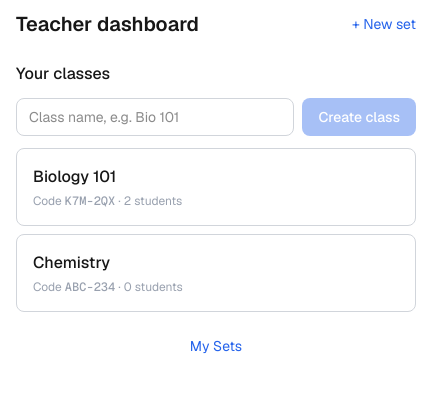
it: teacher dashboard › shows the server's error when creating fails
Check: the link "Biology 101 Code K7M-2QX · 2 students" is shown, box [16,148,416,226]
Type "Too many" into the field named "New class name" at {"x": 155, "y": 117}, box [16,98,294,136]
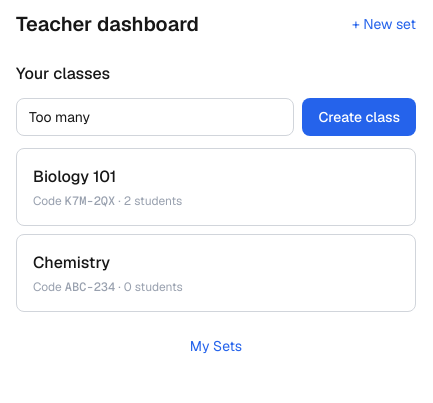
Click the button "Create class" at {"x": 359, "y": 117}, box [302,98,416,136]
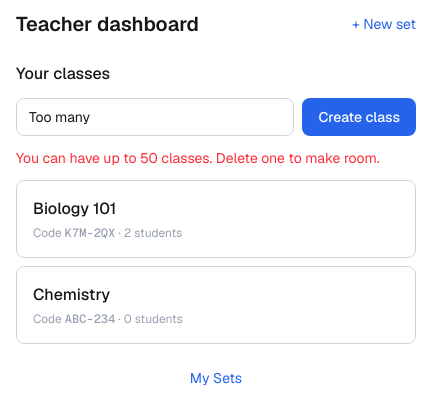
Check: the message shows "up to 50 classes", box [16,149,380,167]
